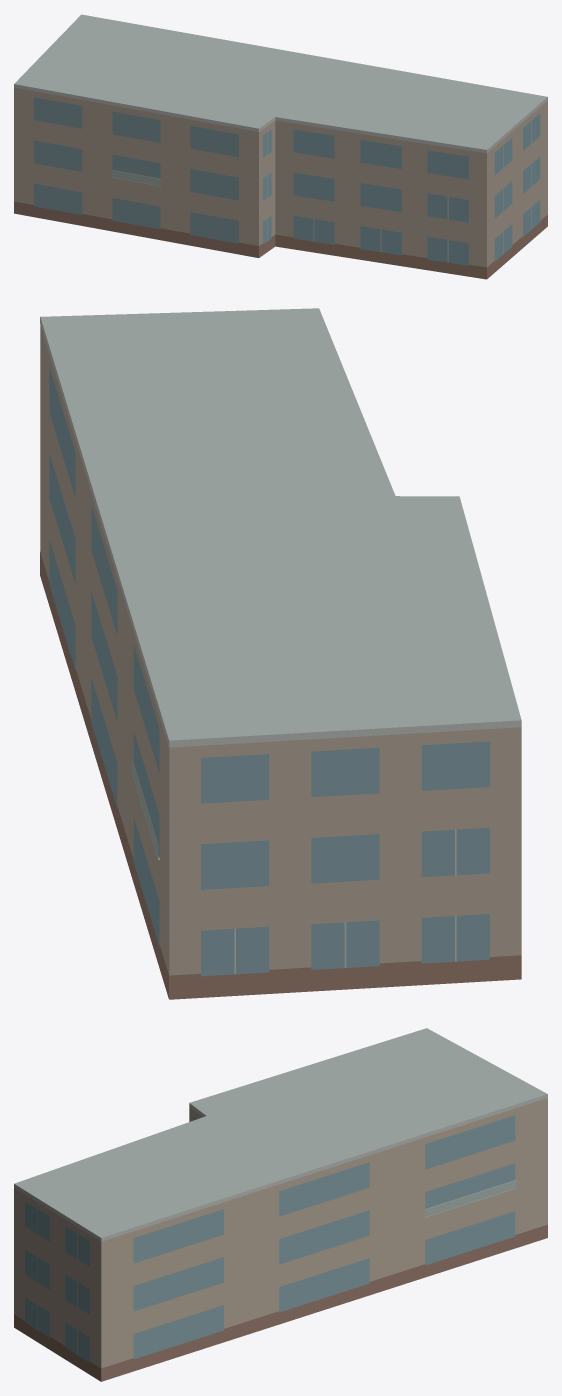
Rendered from survey-upis-32585403.glb.
3 renders of one model, top to bottom at view 1: azimuth 30°, elevation 25°; view 2: azimuth 150°, elevation 25°; view 3: azimuth 270°, elevation 25°, orthographic. The views are drawn at different scales.
Parts seen in each view (by area): view 1: survey-upis-32585403.tmp; view 2: survey-upis-32585403.tmp; view 3: survey-upis-32585403.tmp.
Part boxes in pixels (x1,y1,x2,y2): survey-upis-32585403.tmp: [14, 14, 547, 279]; survey-upis-32585403.tmp: [40, 308, 521, 999]; survey-upis-32585403.tmp: [14, 1028, 547, 1381].
Bounding box in the file's own units: 28.64 × 9.15 × 30.78.
